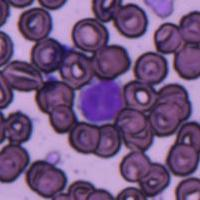L: (78, 78, 124, 124)
